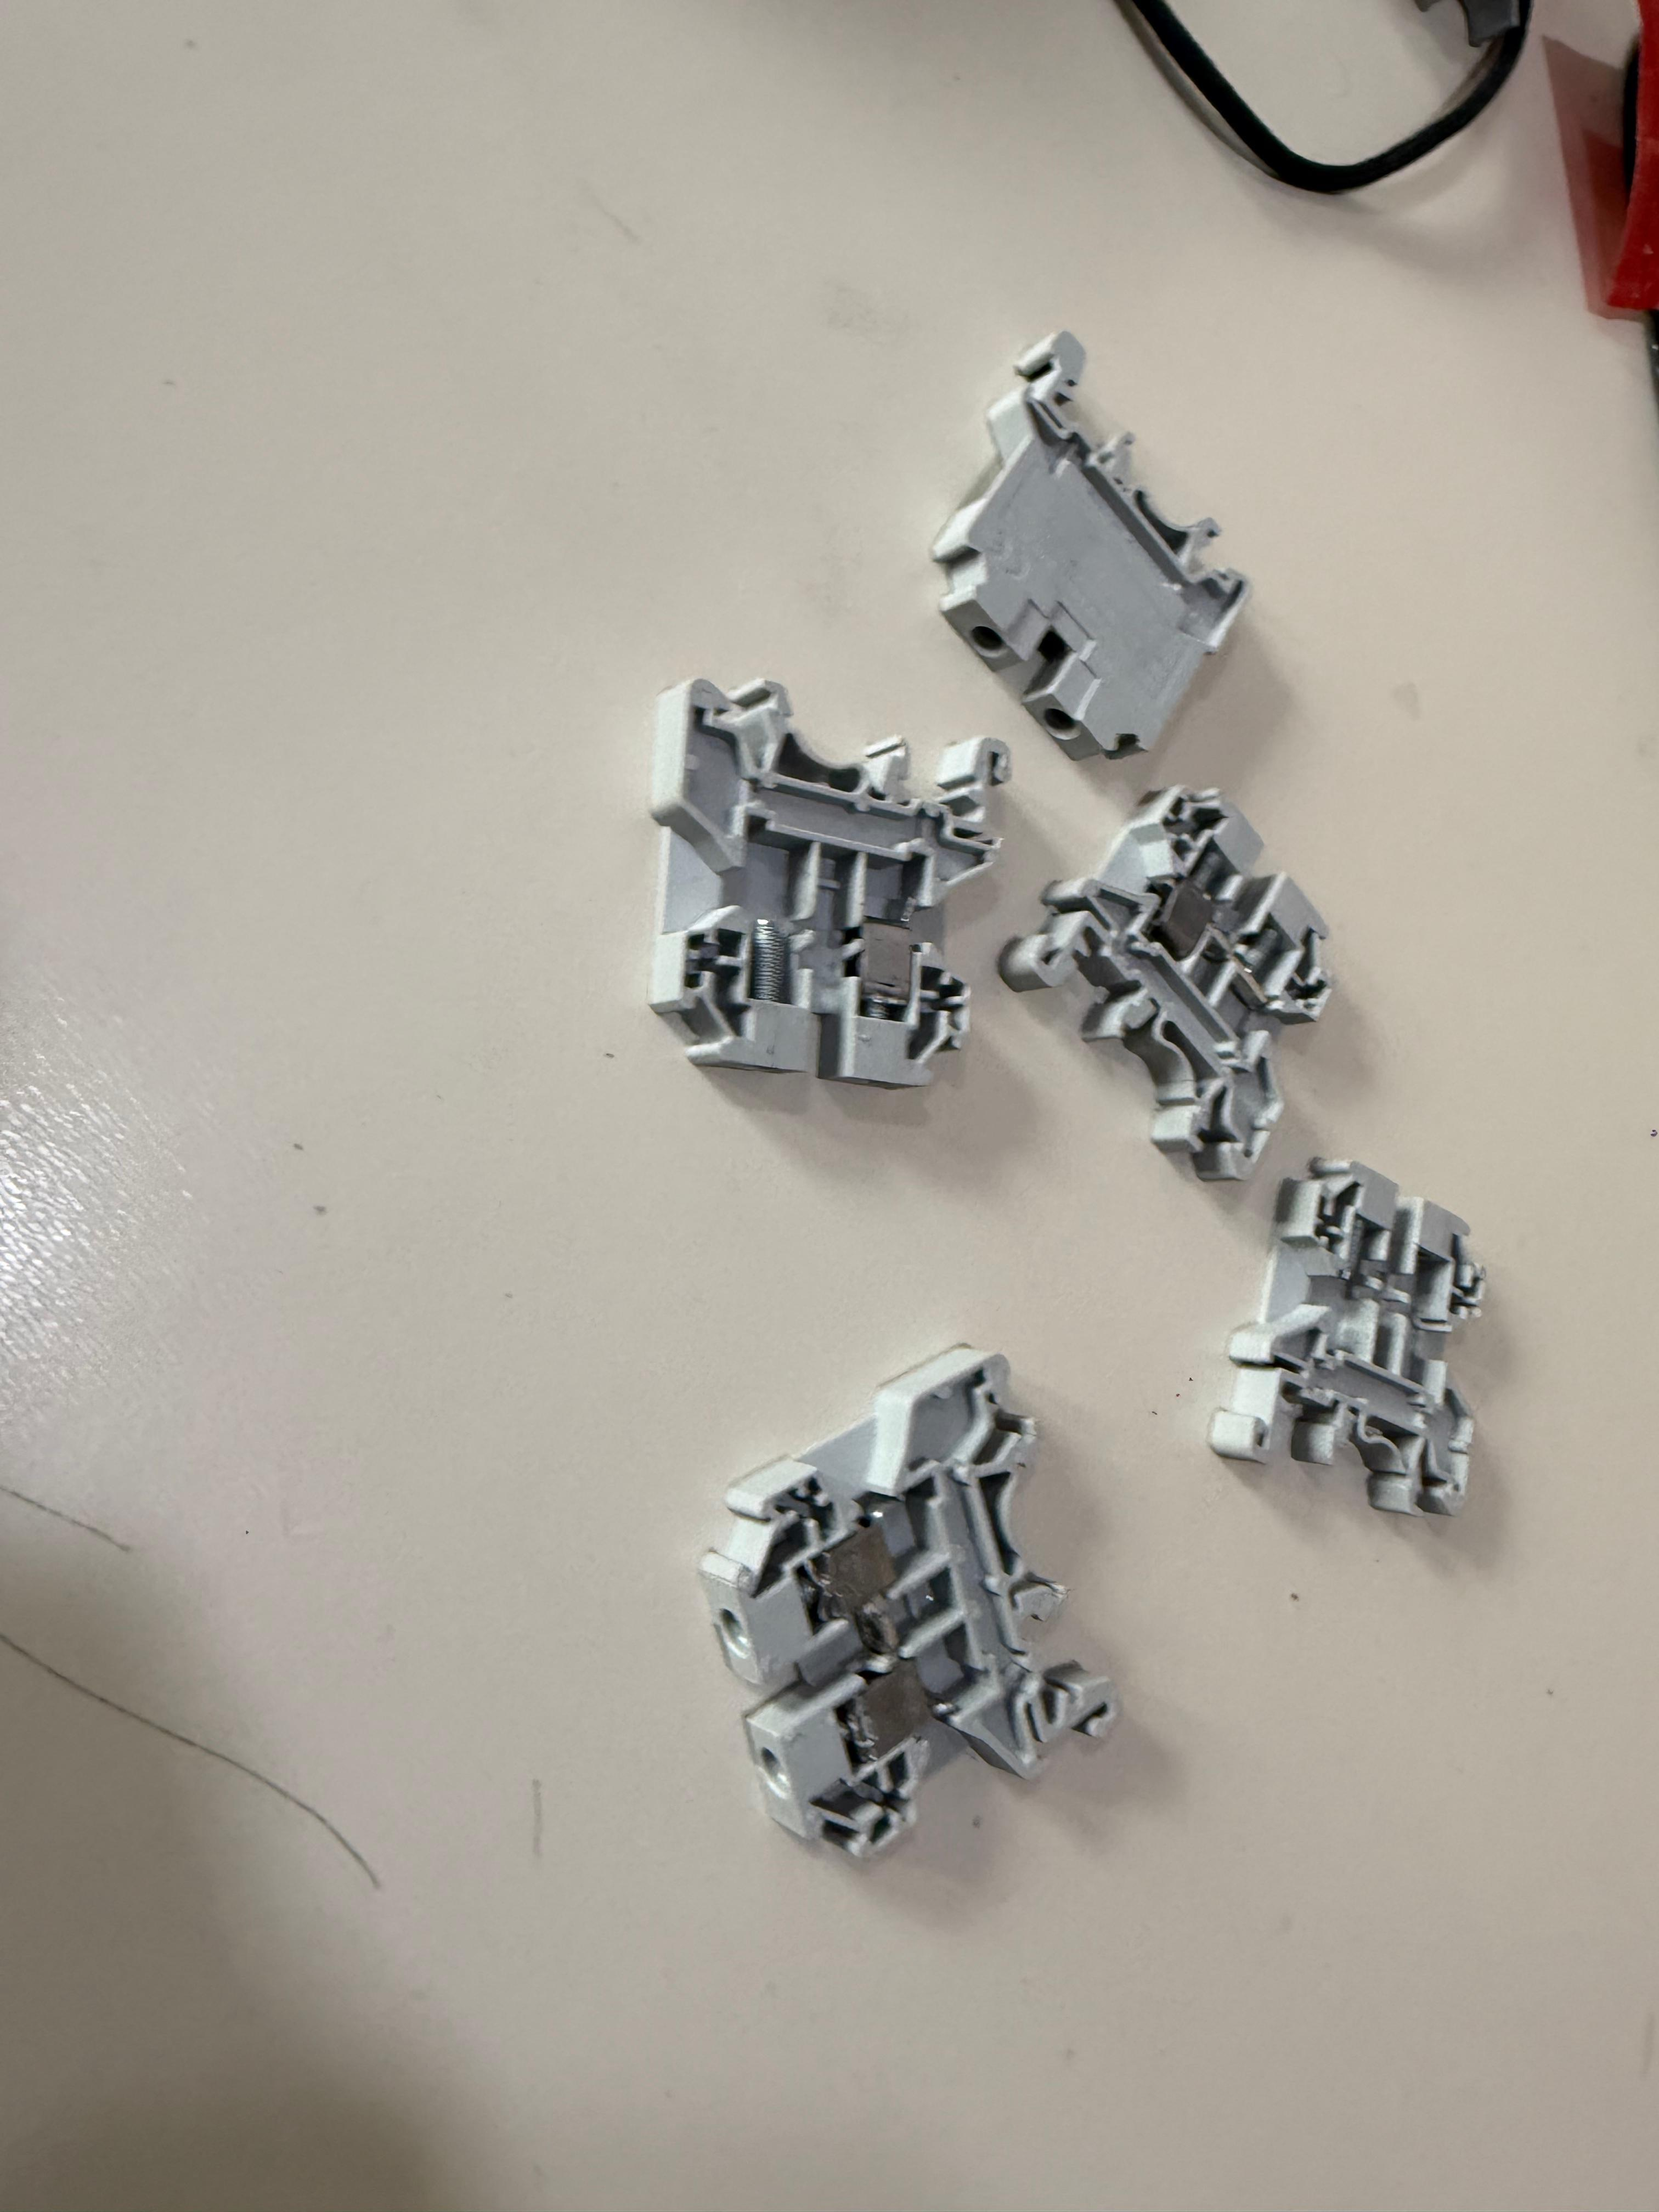Inverted: (925, 331, 1251, 765)
Pass: (697, 1338, 1131, 1855)
Reject: (641, 676, 1016, 1083), (1006, 780, 1340, 1186), (1216, 1157, 1486, 1514)
